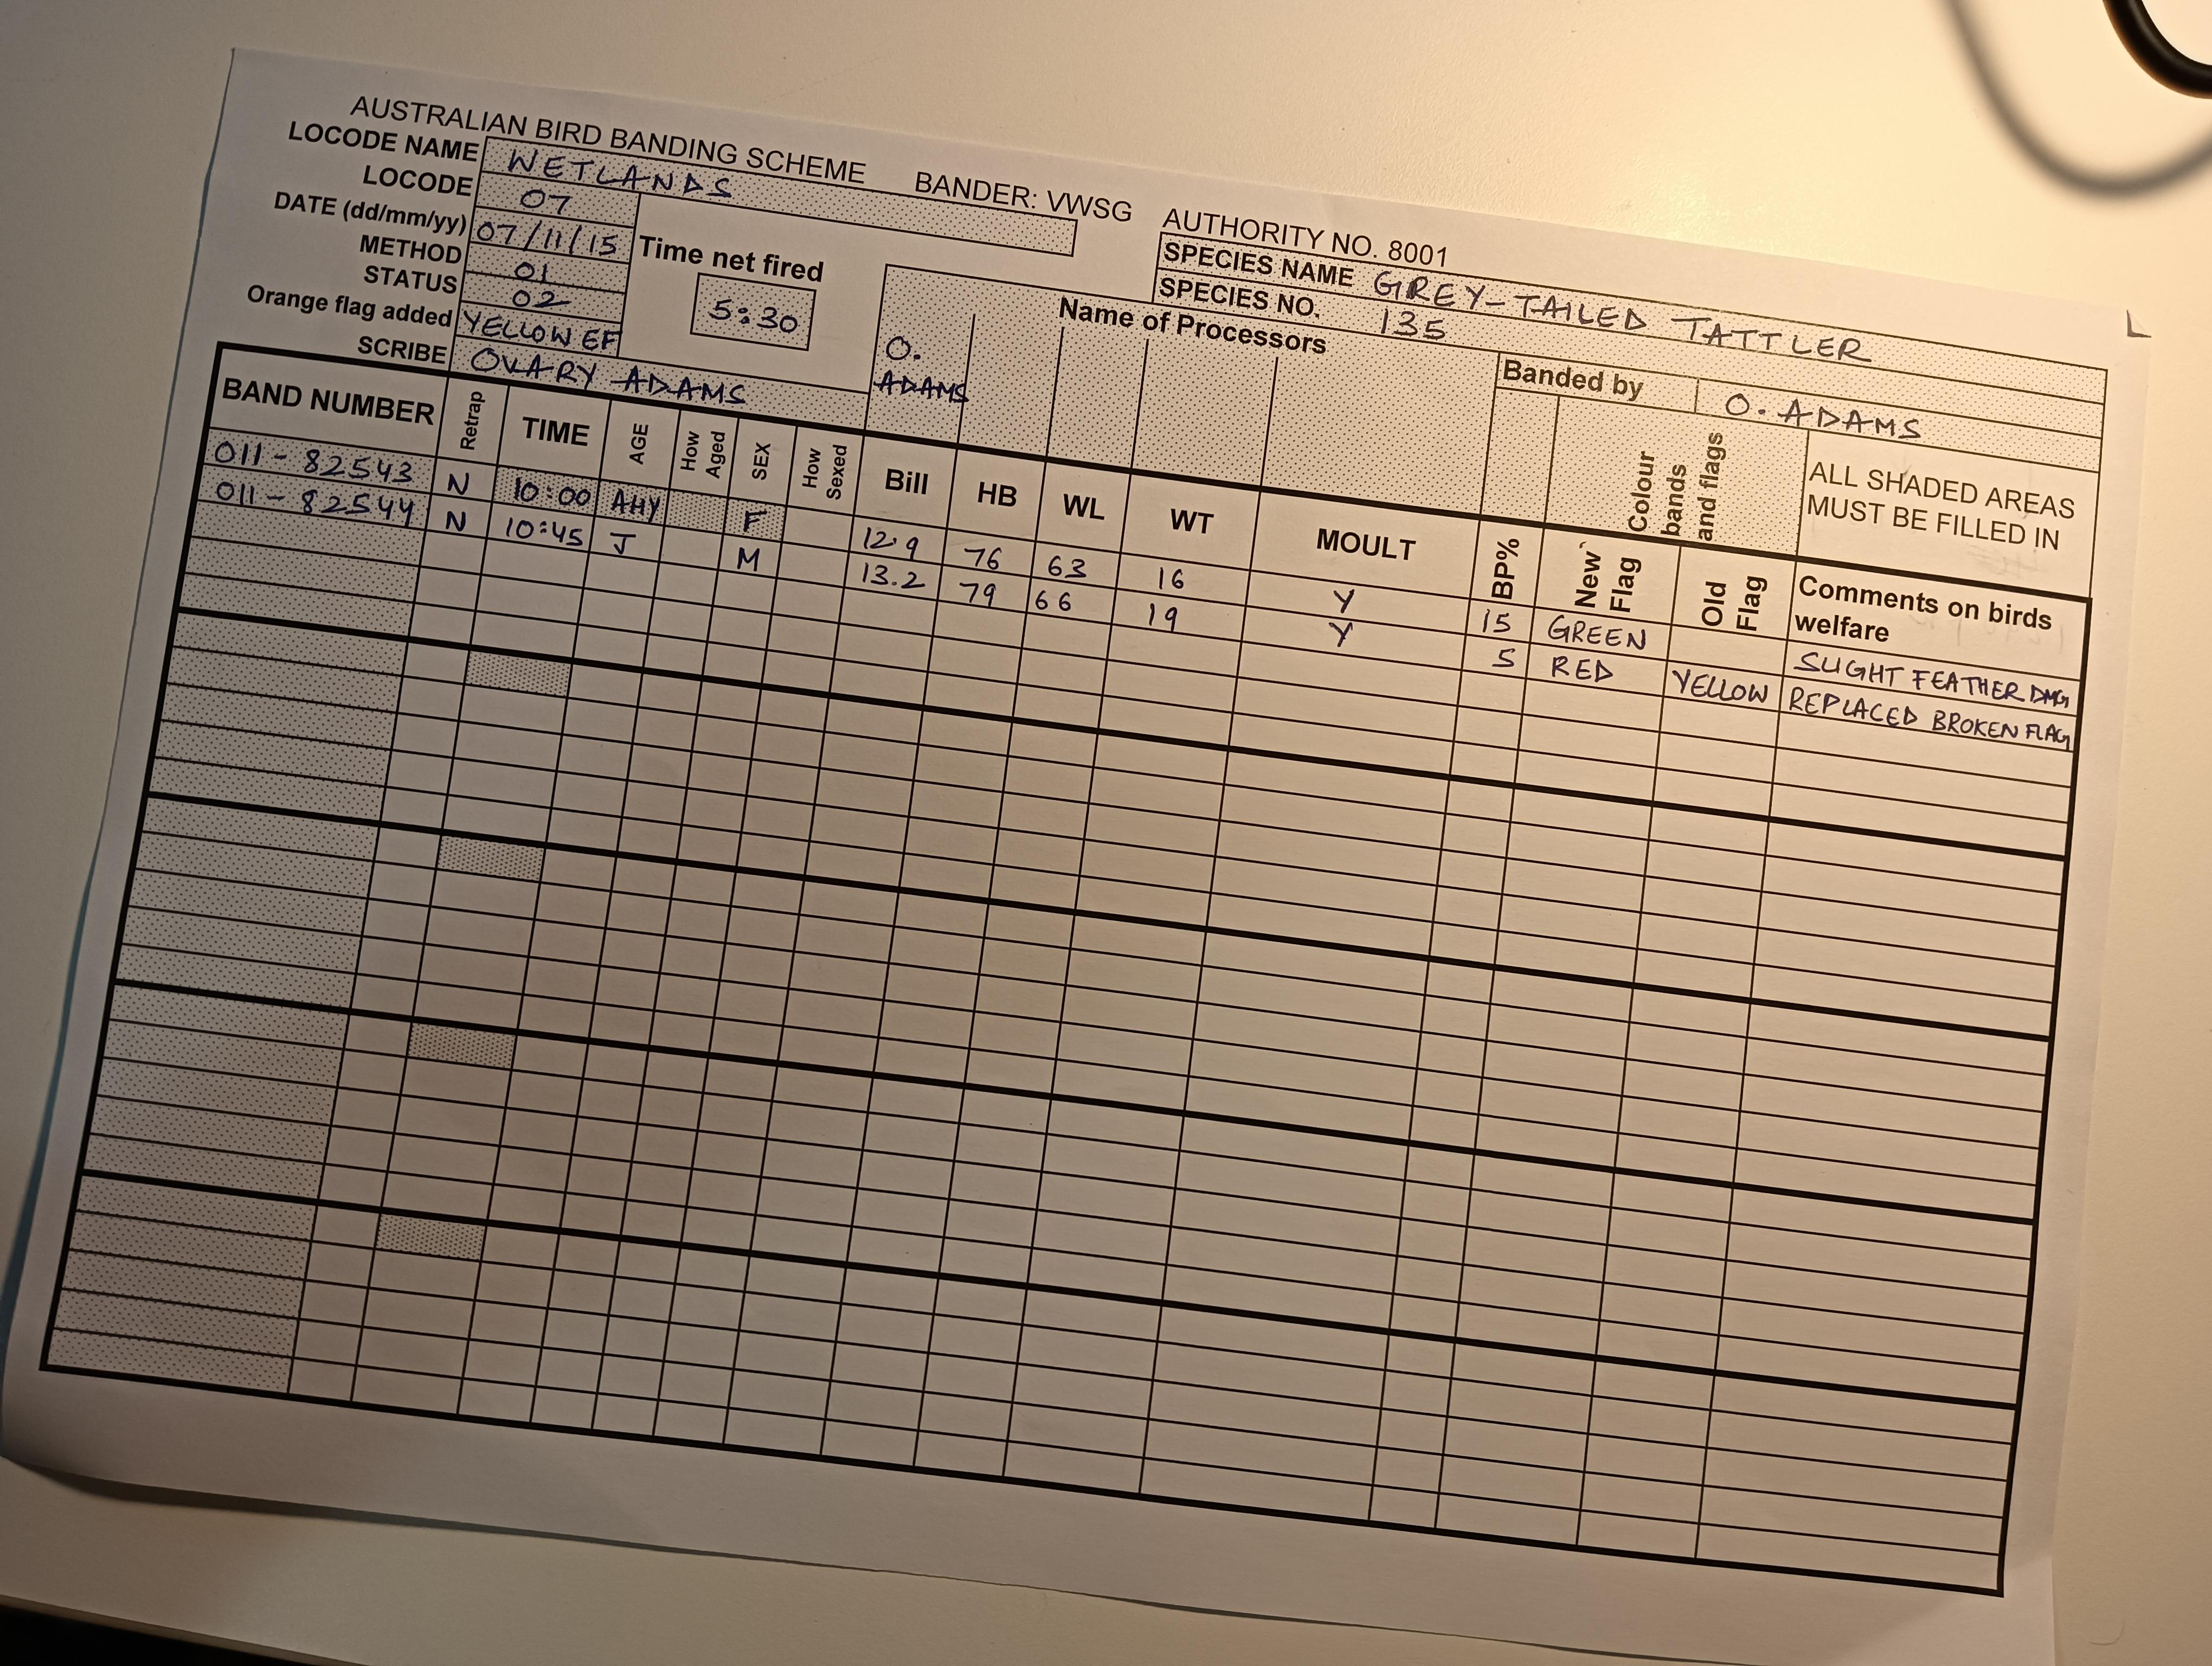BANDED_BY: (1499, 352, 2100, 472)
DATA: (199, 431, 2086, 719), (194, 462, 2081, 751)
DATE: (262, 177, 631, 262)
LOCOCODE: (353, 156, 643, 233)
LOCOCODE_NAME: (282, 107, 1075, 254)
METHOD: (344, 226, 628, 296)
NAME_OF_PROCESSORS: (867, 306, 979, 445)
ORANGE_FLAG_ADDED: (234, 273, 626, 357)
SCRIBE: (344, 322, 867, 429)
SPECIES_NAME: (1154, 233, 2107, 406)
SPECIES_NO: (1154, 268, 2104, 437)
STATUS: (337, 256, 621, 320)
TIME_NET_FIRED: (626, 212, 839, 369)
